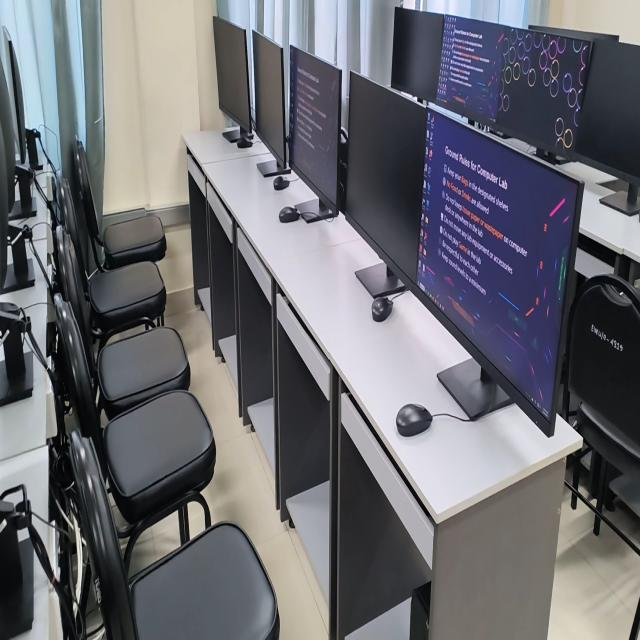Chair: (53, 293, 216, 570), (70, 431, 279, 639), (58, 226, 190, 420), (568, 276, 640, 556), (58, 179, 166, 348), (78, 143, 166, 270), (339, 128, 348, 213)
Cpu: (410, 583, 430, 639)
Monitor: (418, 108, 583, 436), (345, 72, 426, 297), (494, 26, 590, 163), (573, 40, 640, 216), (289, 46, 342, 223), (437, 15, 507, 124), (0, 137, 34, 294), (0, 59, 32, 219), (253, 31, 289, 169), (391, 8, 444, 101), (0, 499, 34, 639), (213, 17, 252, 139), (0, 25, 26, 163), (0, 324, 33, 406), (529, 25, 619, 42)
Mouse: (396, 404, 432, 437), (371, 297, 393, 322), (279, 206, 300, 223), (237, 133, 253, 148), (273, 176, 289, 190), (0, 302, 19, 313)
